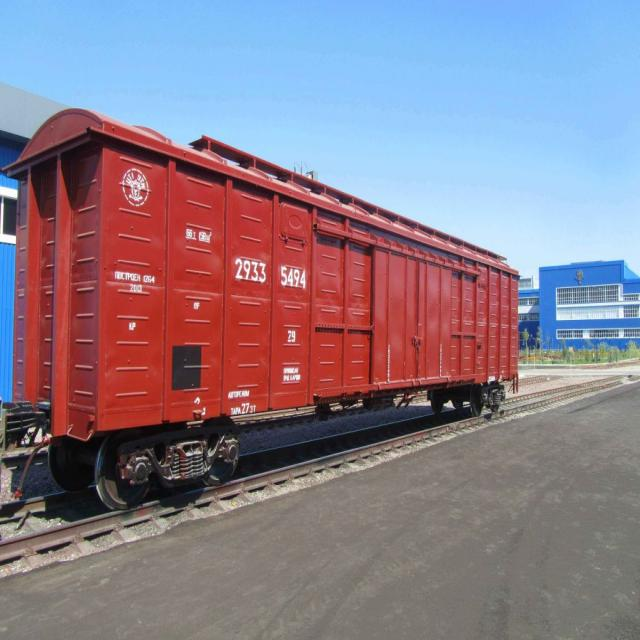boxcar: (10, 104, 521, 520)
